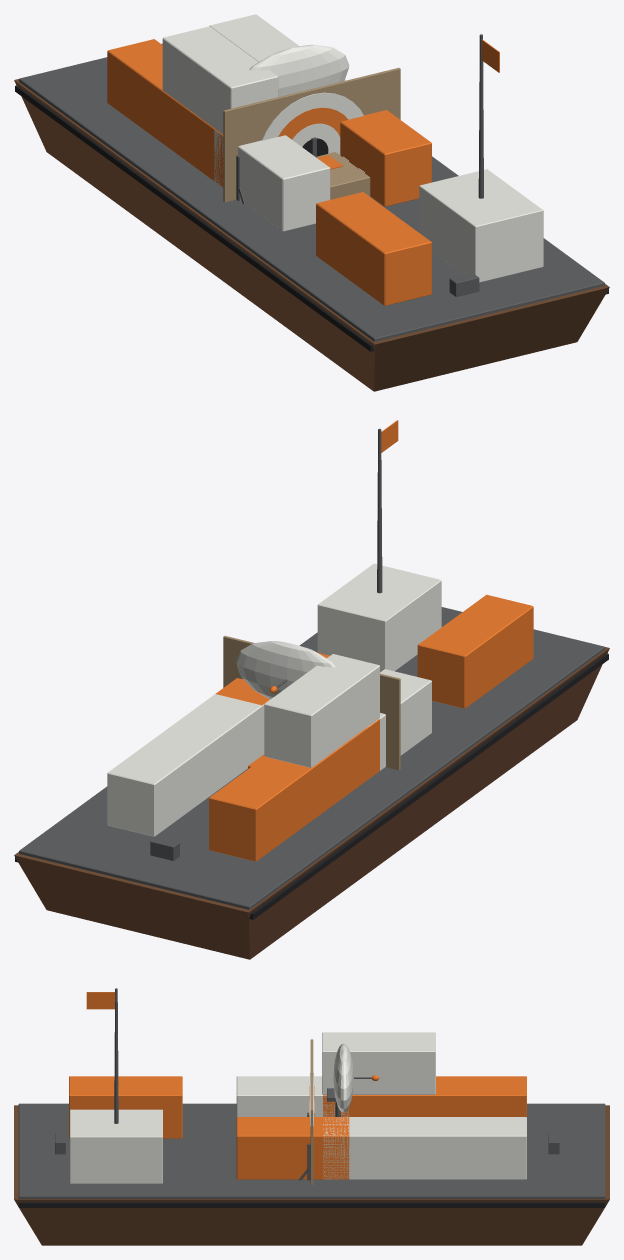
The model's file is range-targets.glb.
The picture shows the model from 3 angles, top to bottom: view 1: azimuth 30°, elevation 25°; view 2: azimuth 150°, elevation 25°; view 3: azimuth 270°, elevation 25°; orthographic projection. The views are drawn at different scales.
Parts seen in each view (by area): view 1: Range_barge, Range_board, Range_radar, Range_truck; view 2: Range_barge, Range_radar, Range_board; view 3: Range_barge, Range_radar, Range_board.
Part boxes in pixels (left/top/right/bottom): Range_barge: left=14, top=14, right=609, bottom=391; Range_board: left=223, top=67, right=400, bottom=204; Range_radar: left=249, top=44, right=349, bottom=96; Range_truck: left=317, top=152, right=370, bottom=199; Range_barge: left=14, top=420, right=609, bottom=959; Range_radar: left=236, top=641, right=336, bottom=699; Range_board: left=223, top=636, right=400, bottom=770; Range_barge: left=14, top=988, right=609, bottom=1245; Range_radar: left=327, top=1043, right=379, bottom=1116; Range_board: left=298, top=1039, right=314, bottom=1184.
Bounding box in the file's own units: 12.2 × 14 × 32.
